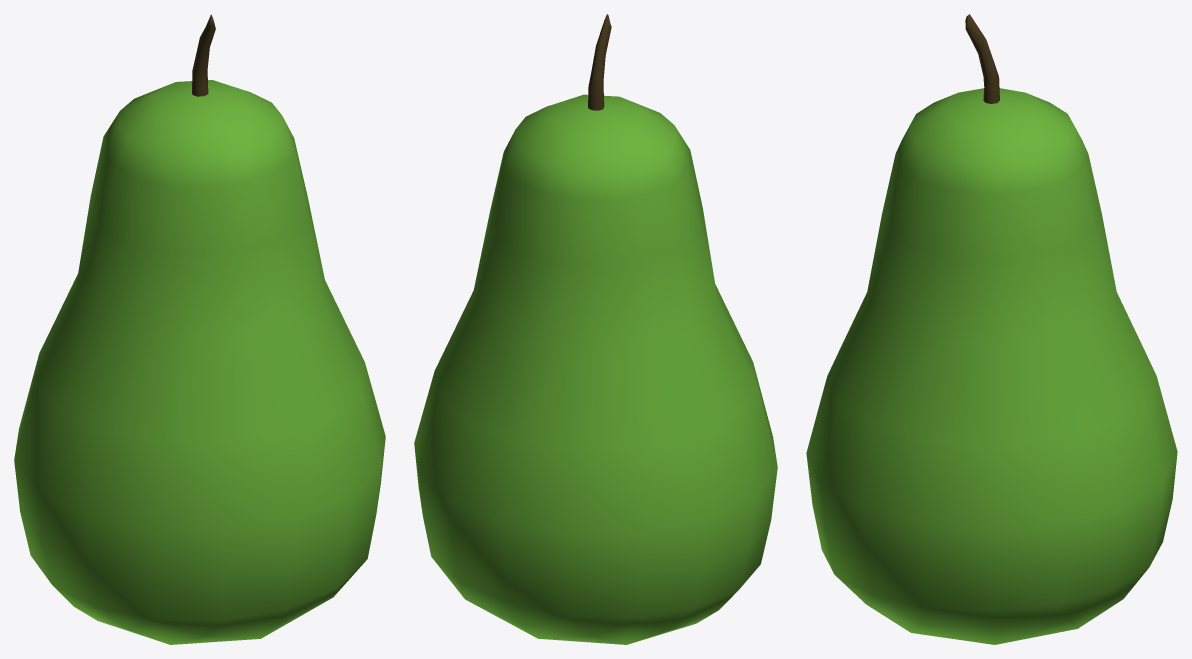
File: Pear.fbx
3 views of the same model, side by side, from view 1: azimuth 30°, elevation 25°; view 2: azimuth 150°, elevation 25°; view 3: azimuth 270°, elevation 25° (orthographic). The views are drawn at different scales.
Visible parts, largest first — view 1: Pear1; view 2: Pear1; view 3: Pear1.
Boxes of the visible parts, box(x1,y1,x2,y2) form: Pear1: box(14, 14, 385, 644); Pear1: box(414, 14, 777, 644); Pear1: box(806, 14, 1177, 644).
Size of the model in its own units: 0.9412 by 1.65 by 0.9412.
